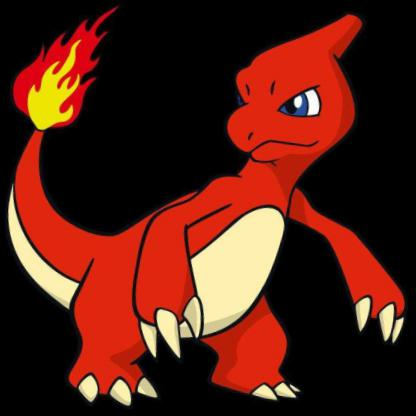Charmeleon: (1, 1, 416, 389)
